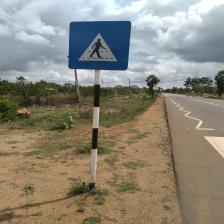blueboard: (67, 20, 132, 71)
crossing: (164, 92, 224, 159)
